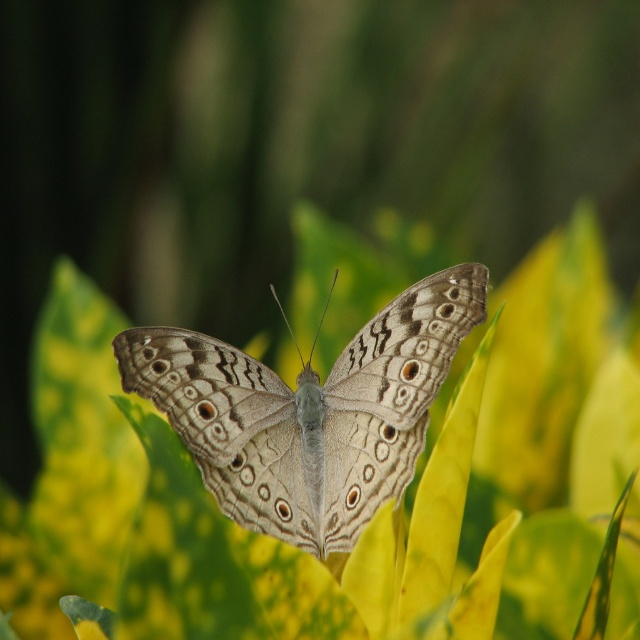Butterfly: (109, 274, 495, 567)
